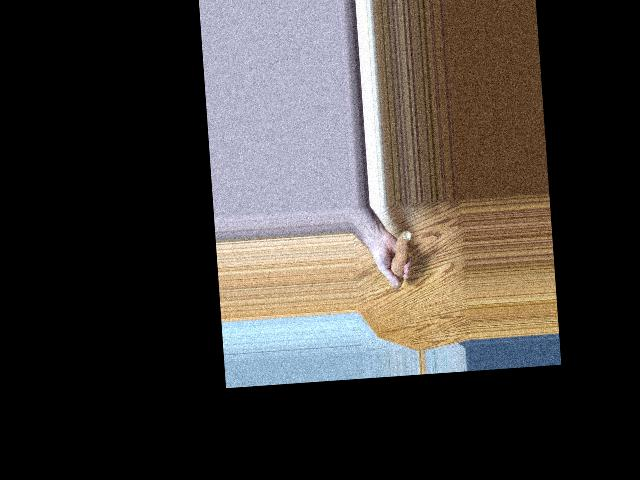sweet_potato: (386, 227, 414, 292)
